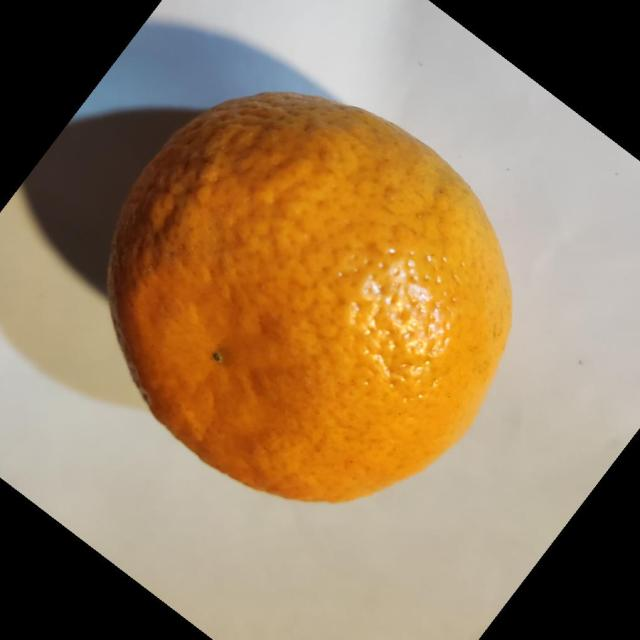fresh orange: (106, 90, 514, 504)
